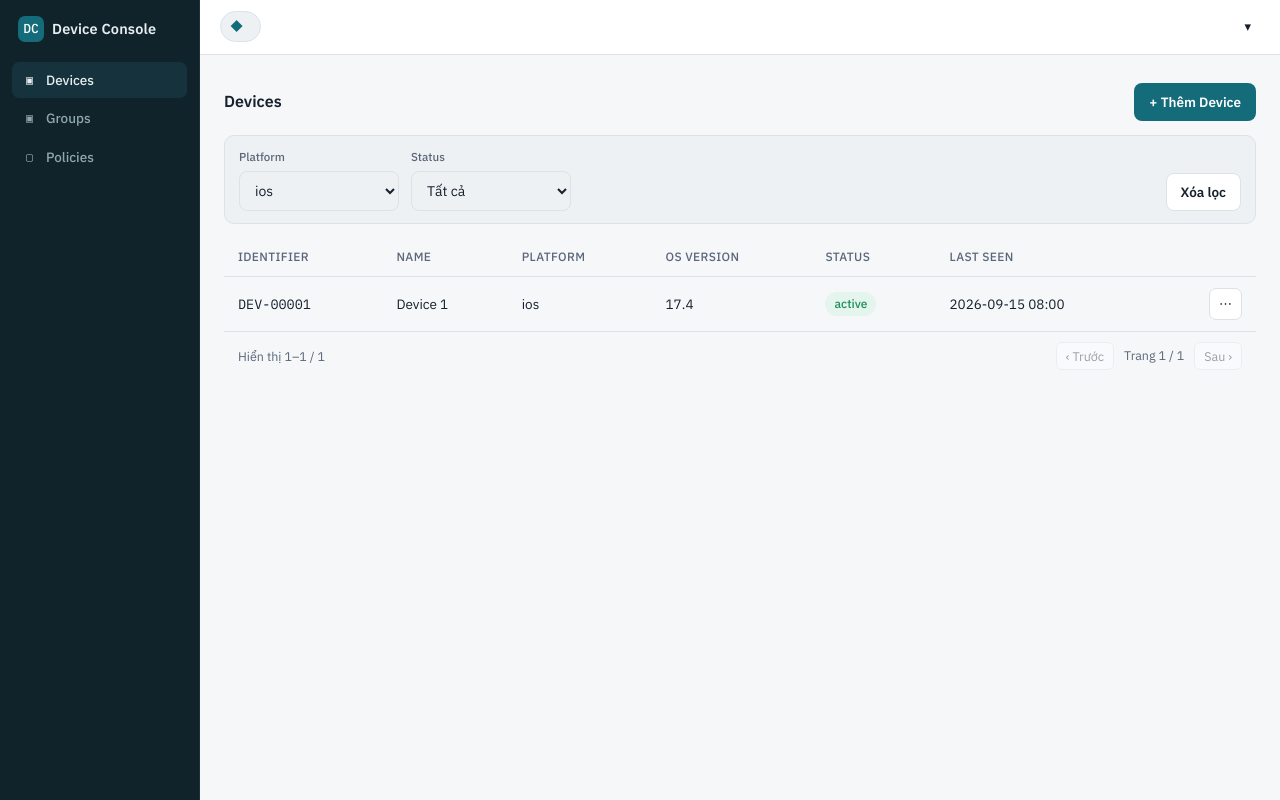
DeviceListView › create/edit modal (F3) › closes the modal, toasts, and reloads at the current filter/page on @saved (create)
Click the button with test id "add-device-button" at x=1195, y=102, box [1134,82,1256,121]
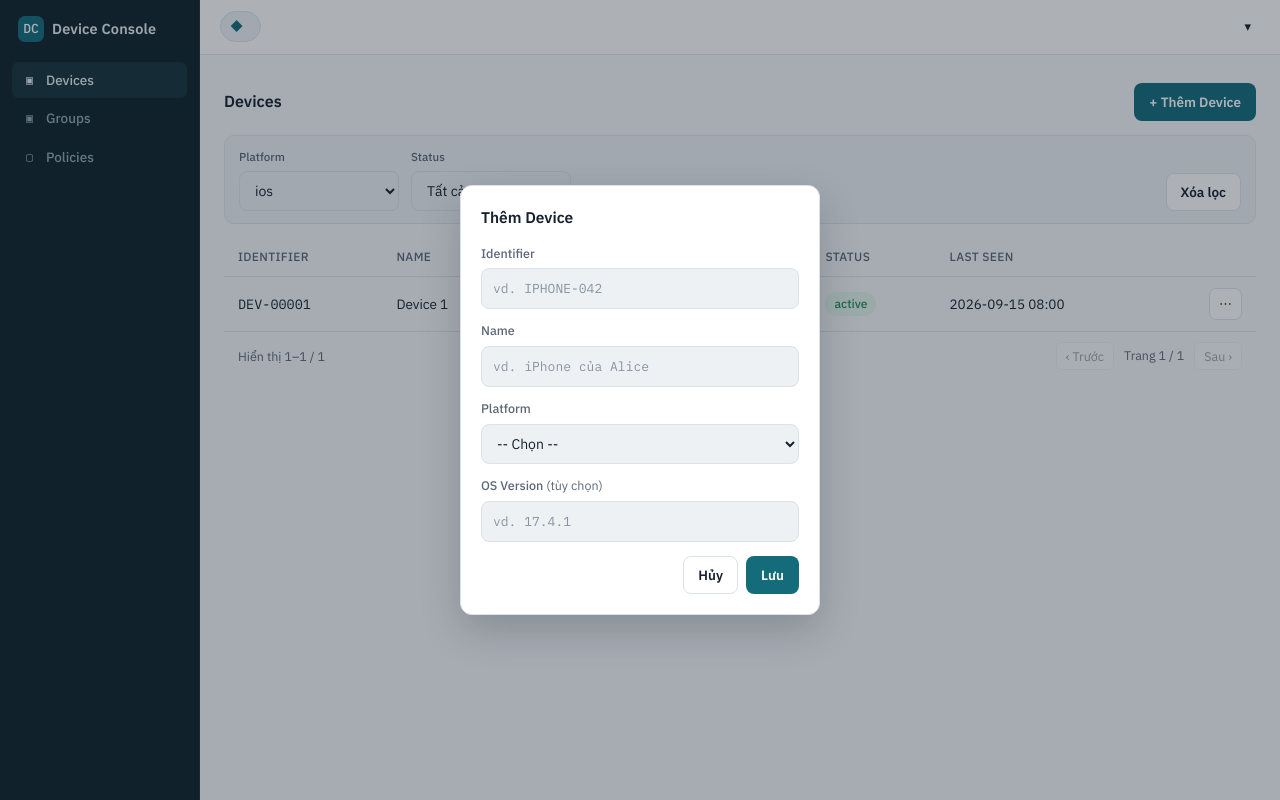
Type "IPHONE-042" into the field with test id "device-form-identifier" at x=640, y=289, box [481,268,799,309]
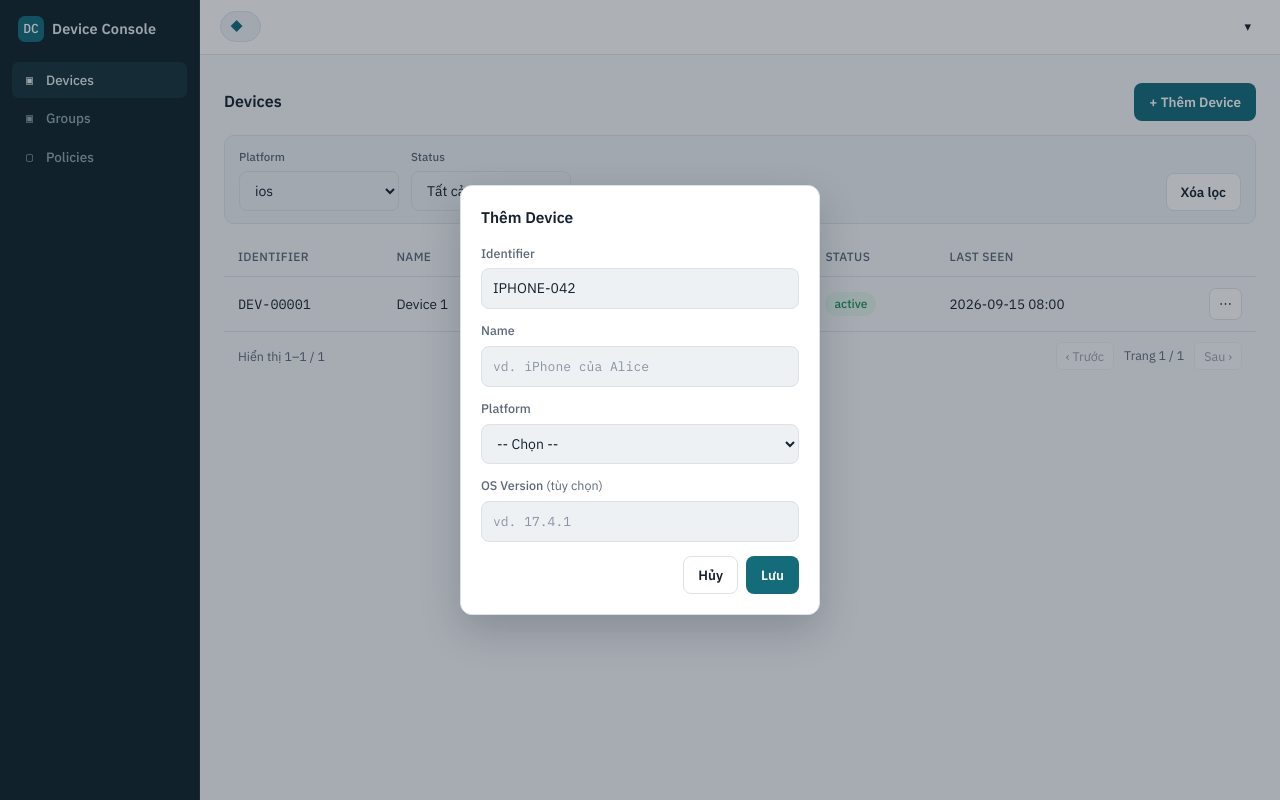
Type "Alice iPhone" into the field with test id "device-form-name" at x=640, y=366, box [481,346,799,387]
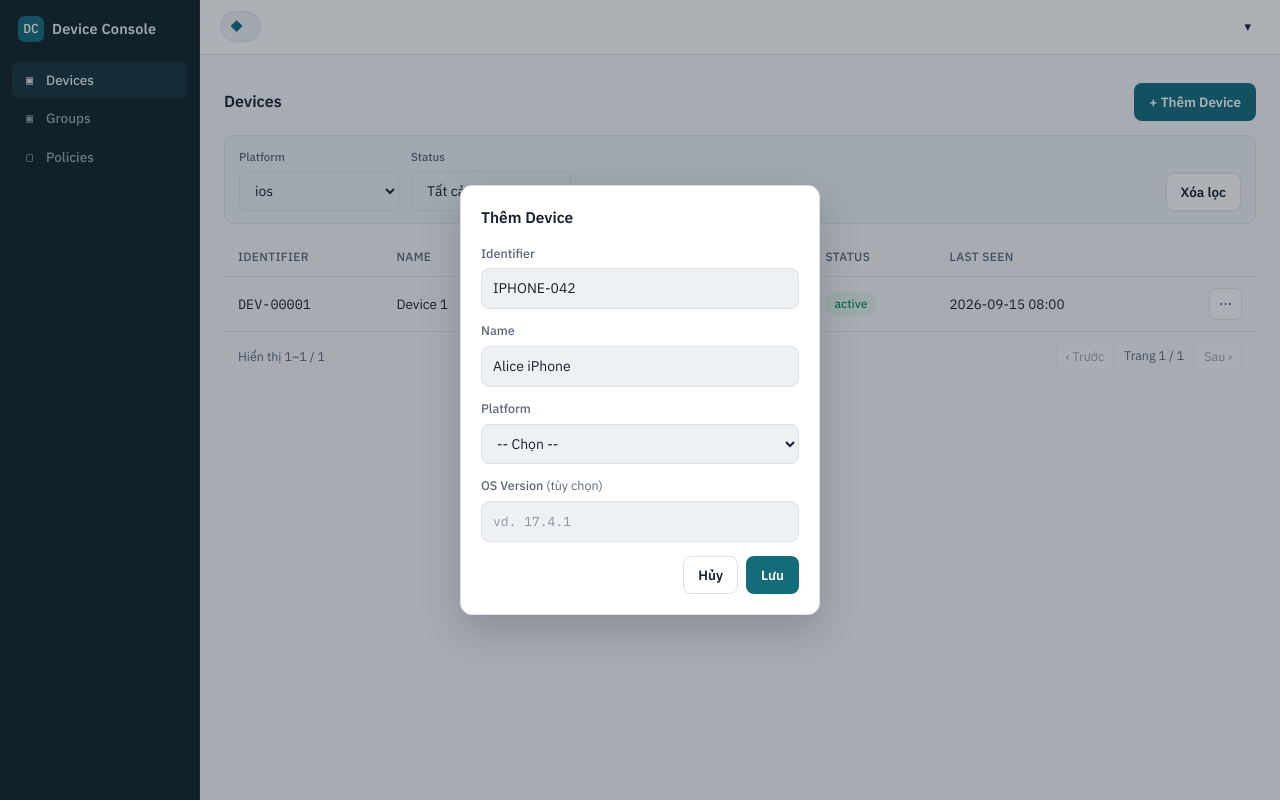
Select "ios" in the dropdown with test id "device-form-platform" at x=640, y=444, box [481,424,799,464]
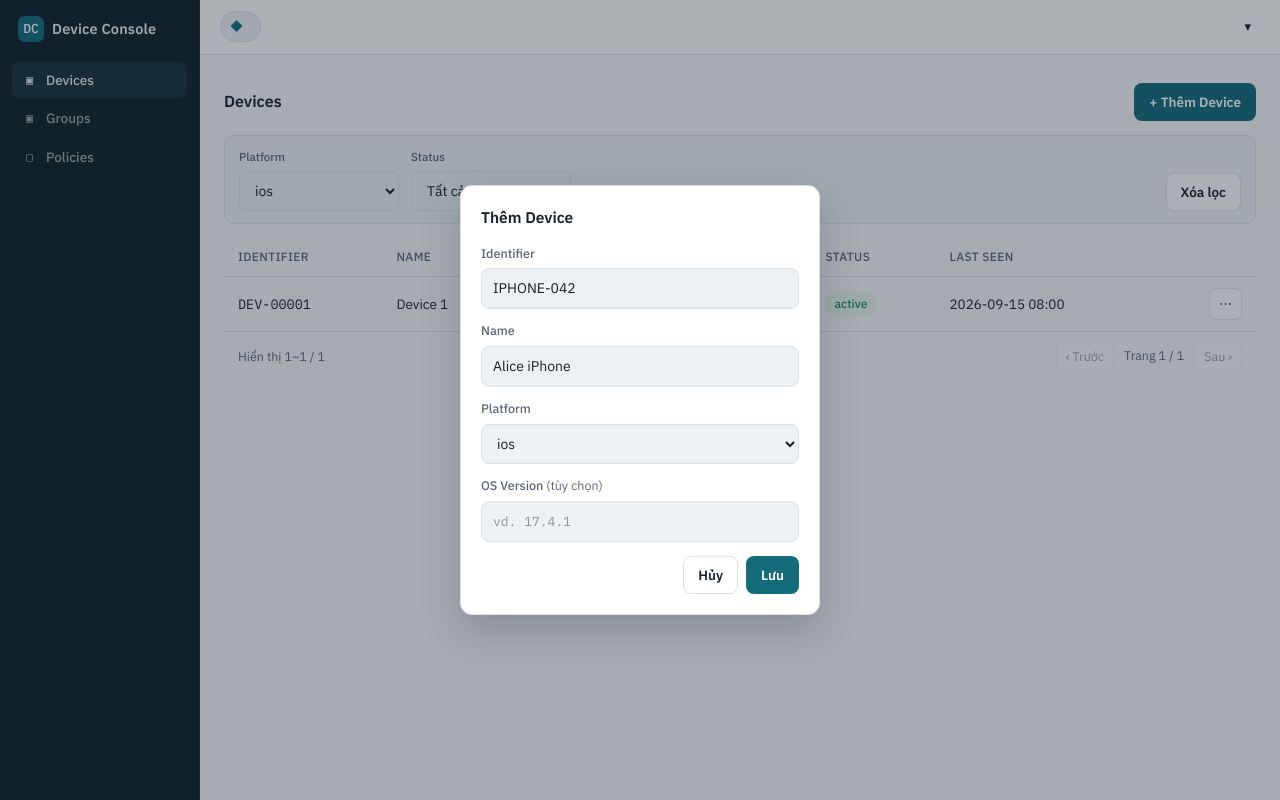
Submit the form, box [460,185,820,615]
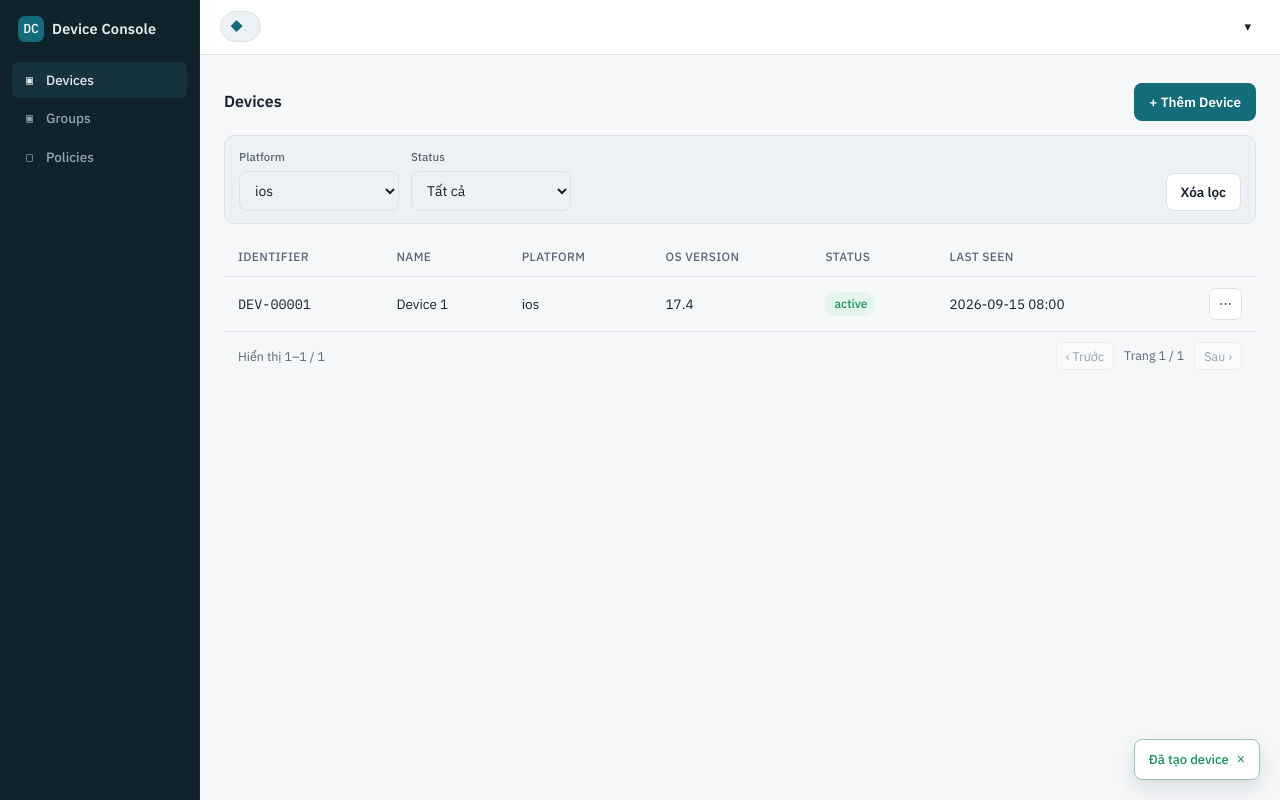
Now the element with test id "toast" shows "Đã tạo device", box [1149,750,1229,768]
